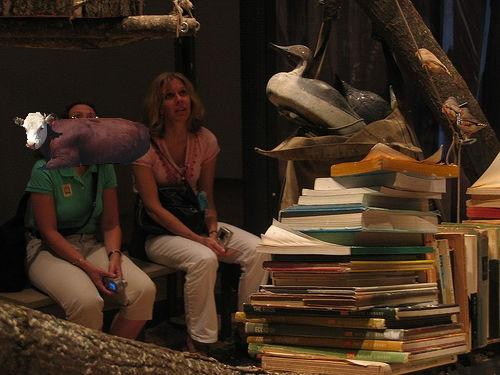tampered: (14, 113, 150, 170)
